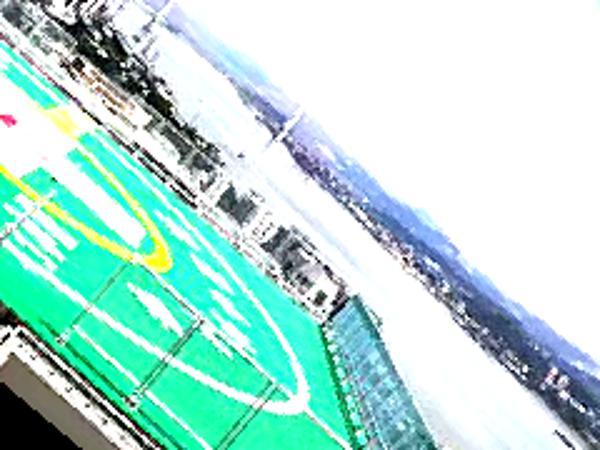Apron: (1, 61, 185, 281)
